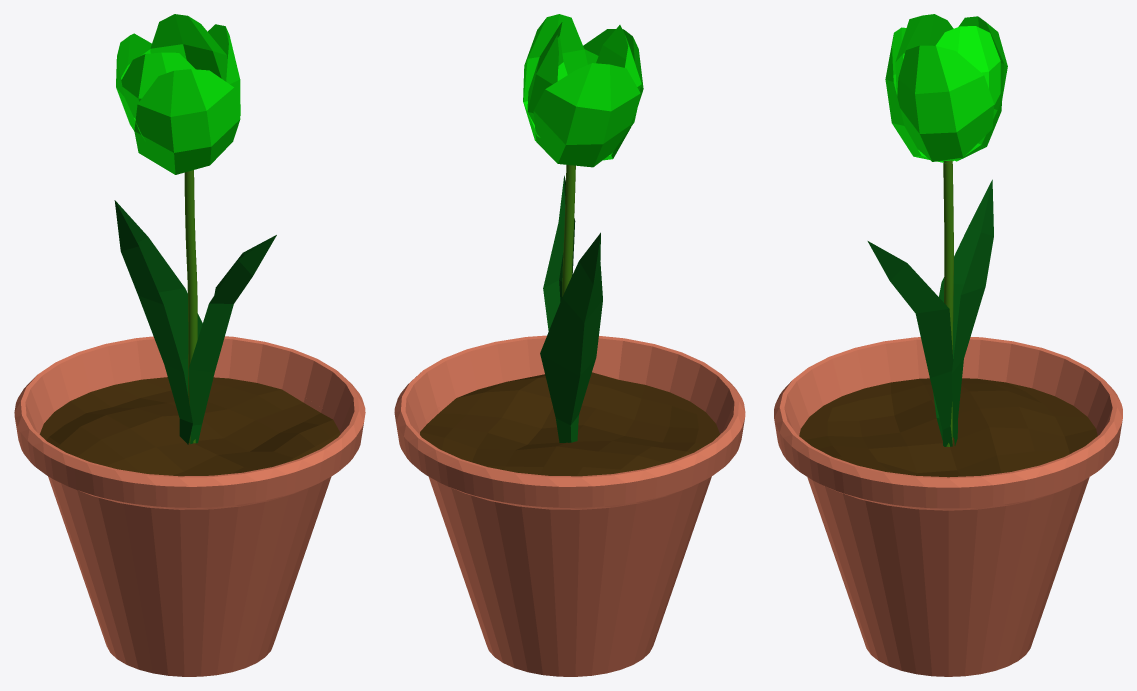
The model's file is flower_state_good.glb.
3 views of the same model, side by side, from view 1: azimuth 30°, elevation 25°; view 2: azimuth 150°, elevation 25°; view 3: azimuth 270°, elevation 25° (orthographic).
Visible parts, largest first — view 1: Pot, Dirt, Bulb, Leafs, Stem; view 2: Pot, Dirt, Bulb, Leafs, Stem; view 3: Pot, Dirt, Bulb, Leafs, Stem.
Part boxes in pixels (left/top/right/bottom): Pot: left=14, top=336, right=365, bottom=676; Dirt: left=39, top=377, right=340, bottom=476; Bulb: left=116, top=14, right=240, bottom=174; Leafs: left=114, top=200, right=276, bottom=444; Stem: left=184, top=170, right=197, bottom=443; Pot: left=394, top=335, right=745, bottom=676; Dirt: left=420, top=372, right=719, bottom=476; Bulb: left=523, top=14, right=643, bottom=167; Leafs: left=540, top=175, right=602, bottom=442; Stem: left=562, top=165, right=575, bottom=296; Pot: left=774, top=337, right=1122, bottom=676; Dirt: left=799, top=378, right=1097, bottom=477; Bulb: left=885, top=14, right=1007, bottom=163; Leafs: left=867, top=179, right=993, bottom=446; Stem: left=943, top=160, right=953, bottom=446.
Bounding box in the file's own units: 2.16 × 4.21 × 2.16.
